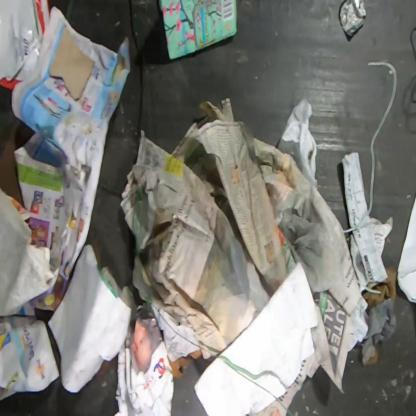cardboard: (158, 0, 238, 61), (46, 26, 95, 103)
soft_plastic: (0, 0, 50, 89)
